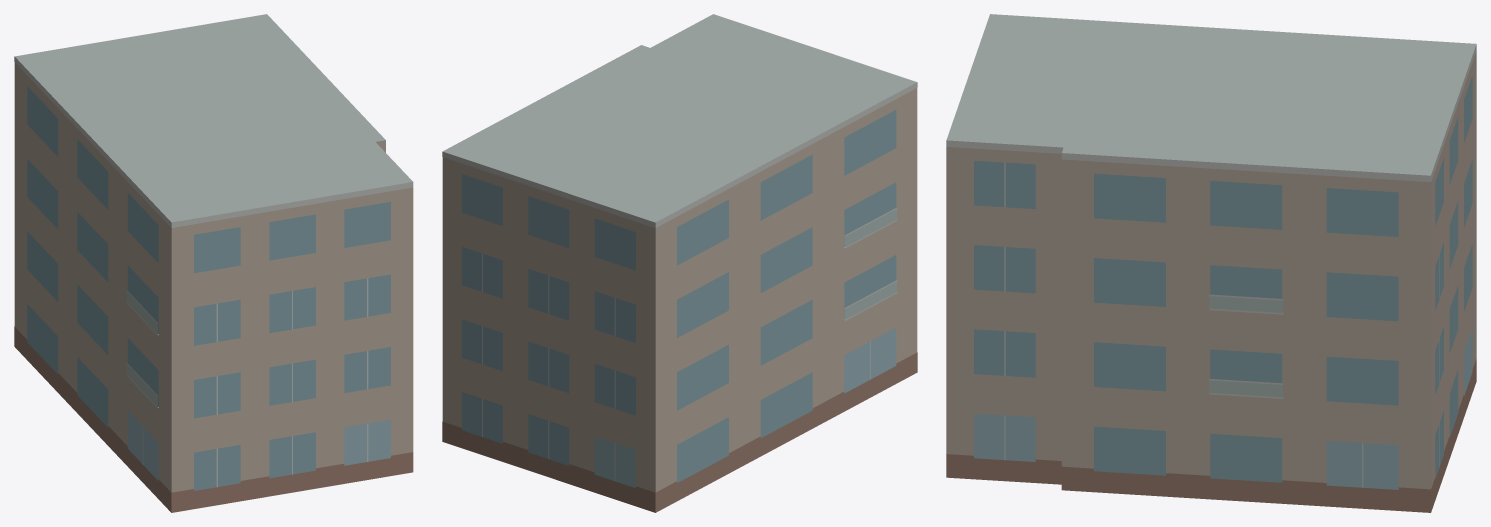
File: survey-upis-32836368.glb
3 views of the same model, side by side, from view 1: azimuth 30°, elevation 25°; view 2: azimuth 150°, elevation 25°; view 3: azimuth 270°, elevation 25° (orthographic). The views are drawn at different scales.
Visible parts, largest first — view 1: survey-upis-32836368.tmp; view 2: survey-upis-32836368.tmp; view 3: survey-upis-32836368.tmp.
Part boxes in pixels (<box>): survey-upis-32836368.tmp: <box>14,14,413,512</box>; survey-upis-32836368.tmp: <box>442,14,917,512</box>; survey-upis-32836368.tmp: <box>946,14,1476,512</box>.
Bounding box in the file's own units: 13.17 × 12.8 × 18.26.
